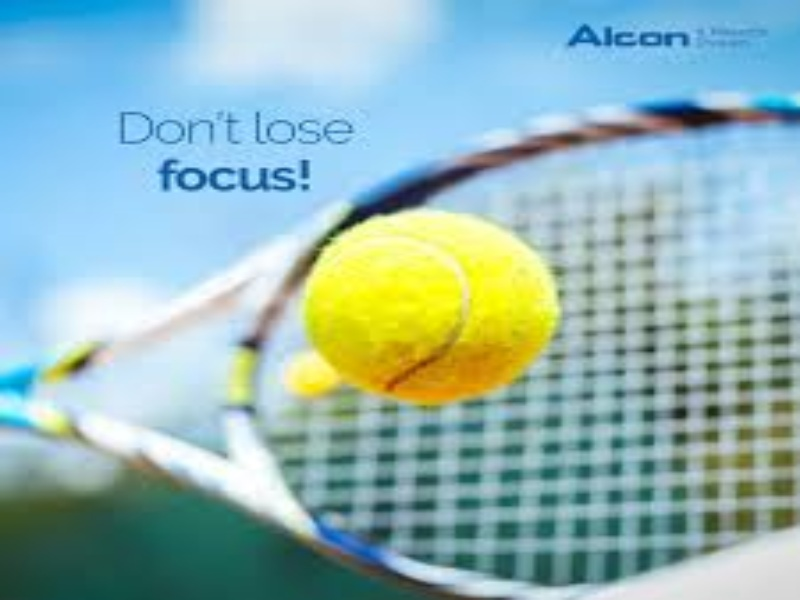tennis ball: (311, 205, 593, 414)
